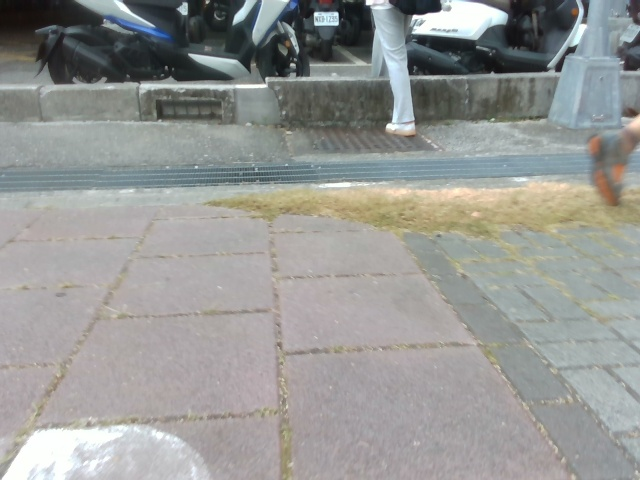road: (0, 150, 588, 195)
sidewalk: (0, 180, 639, 479), (203, 131, 582, 162)
